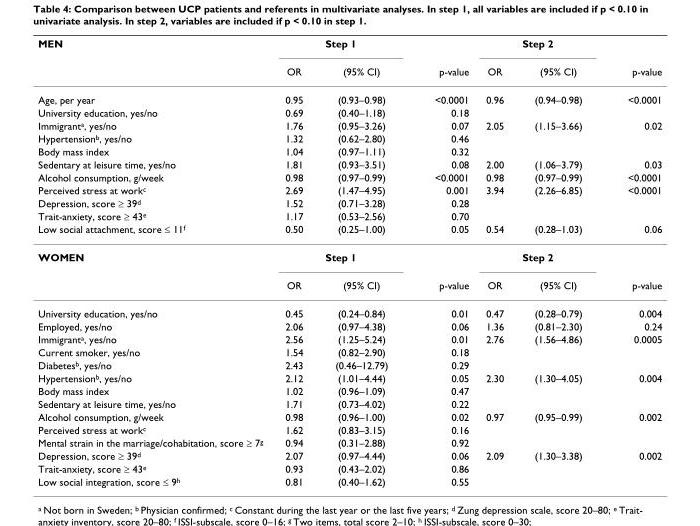table: (37, 36, 661, 487)
table column: (37, 36, 273, 487), (318, 36, 410, 487), (518, 36, 604, 487), (410, 36, 476, 487), (604, 36, 661, 487), (273, 36, 318, 487), (476, 36, 518, 487)
table column header: (37, 36, 661, 85)
table row: (37, 57, 661, 85), (37, 242, 661, 270), (37, 270, 661, 298), (37, 36, 661, 57), (37, 221, 661, 242), (37, 298, 661, 319), (37, 85, 661, 105), (37, 105, 661, 118), (37, 118, 661, 131), (37, 131, 661, 144), (37, 144, 661, 157), (37, 157, 661, 170), (37, 170, 661, 183), (37, 195, 661, 208), (37, 208, 661, 221), (37, 319, 661, 332), (37, 332, 661, 345), (37, 345, 661, 358), (37, 358, 661, 371), (37, 371, 661, 384), (37, 384, 661, 397), (37, 409, 661, 422), (37, 422, 661, 435), (37, 435, 661, 448), (37, 448, 661, 461), (37, 461, 661, 474), (37, 474, 661, 487), (37, 183, 661, 195), (37, 397, 661, 409)
table spanning cell: (37, 242, 273, 298), (37, 36, 273, 85), (273, 242, 410, 270), (476, 242, 604, 270), (410, 36, 476, 85), (273, 36, 410, 57), (604, 36, 661, 85), (476, 36, 604, 57)
